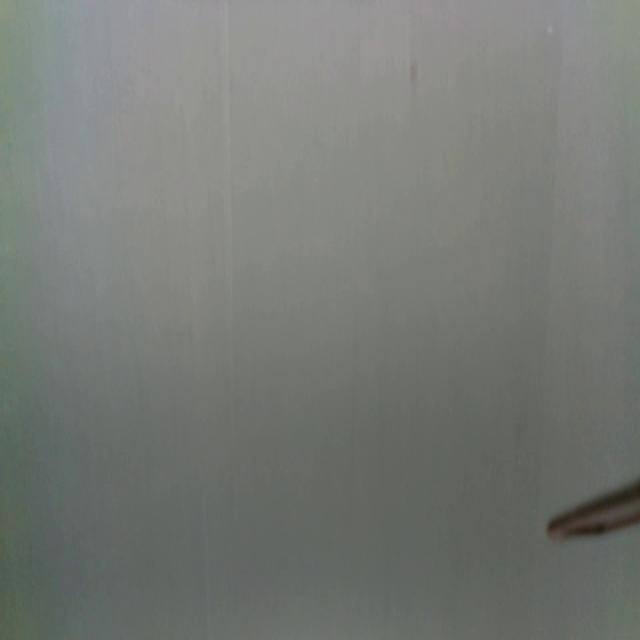crease: (219, 0, 237, 371)
